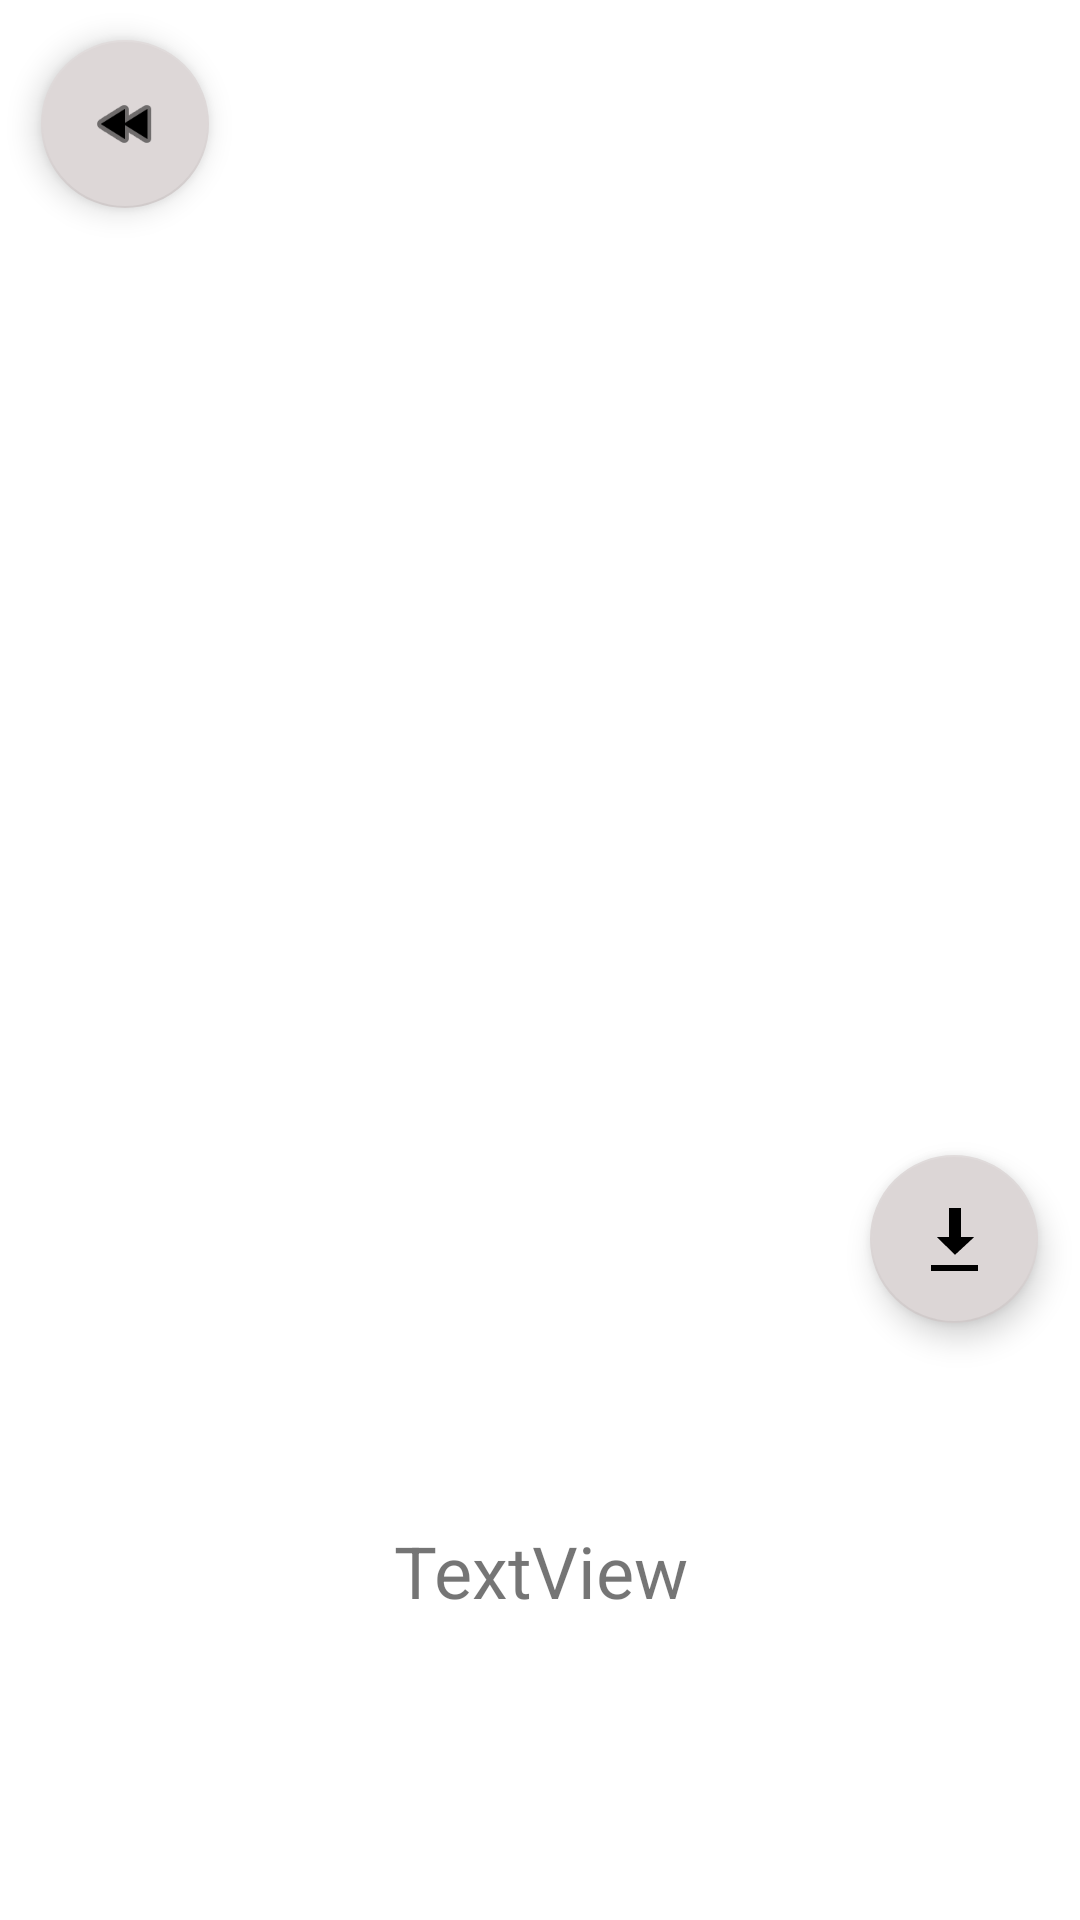

Icon bounding boxes for this 1080w x 1920h phone screenshot, format (x1, y1, x2, y2):
download: (870, 1155, 1038, 1323)
rew: (41, 40, 209, 208)
